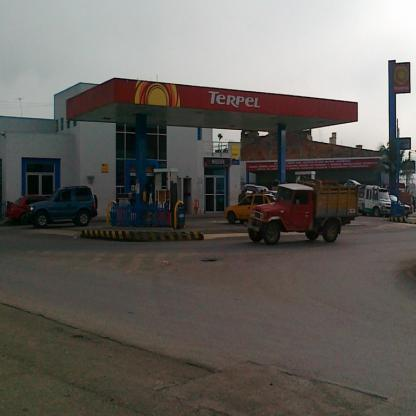Car: (246, 176, 358, 245)
Truck: (244, 176, 359, 244), (344, 178, 390, 216)
